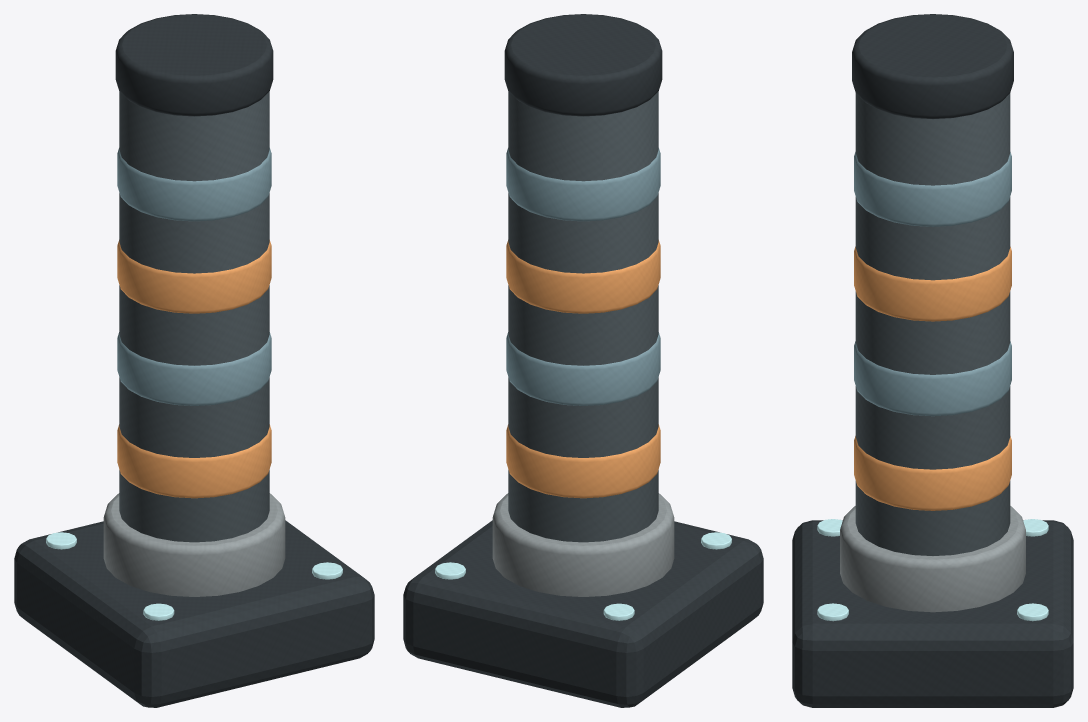
File: SecurityBollard.glb
3 renders of one model, left to right at view 1: azimuth 30°, elevation 25°; view 2: azimuth 150°, elevation 25°; view 3: azimuth 270°, elevation 25°, orthographic. The views are drawn at different scales.
Parts seen in each view (by area): view 1: SecurityBollard_Mesh; view 2: SecurityBollard_Mesh; view 3: SecurityBollard_Mesh.
Boxes of the visible parts, left/top/right/bottom form: SecurityBollard_Mesh: left=14, top=14, right=374, bottom=707; SecurityBollard_Mesh: left=403, top=14, right=763, bottom=707; SecurityBollard_Mesh: left=792, top=14, right=1073, bottom=707.
Size of the model in its own units: 0.62 by 1.48 by 0.62.
6 materials, 6 textured.
